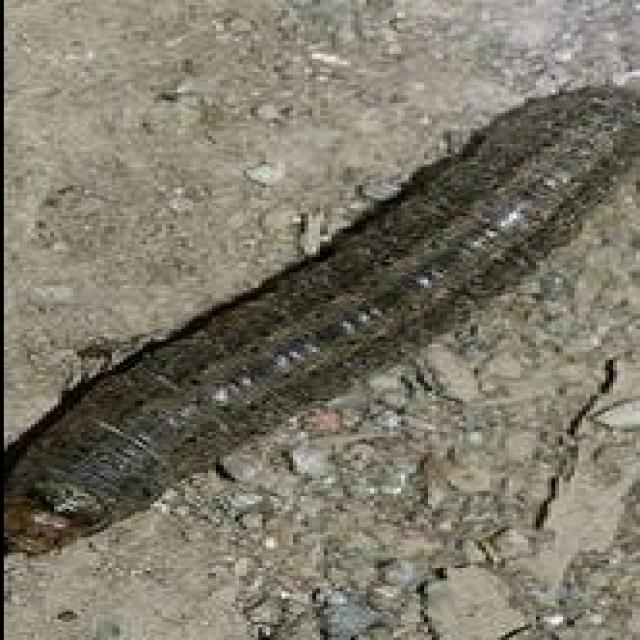black cutworm: (3, 71, 639, 580)
